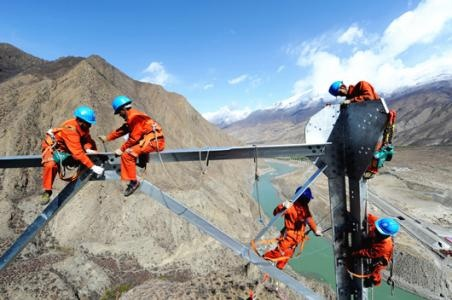blue: (72, 104, 97, 131), (110, 94, 134, 119), (374, 214, 398, 239), (294, 184, 313, 208), (328, 79, 348, 100)
